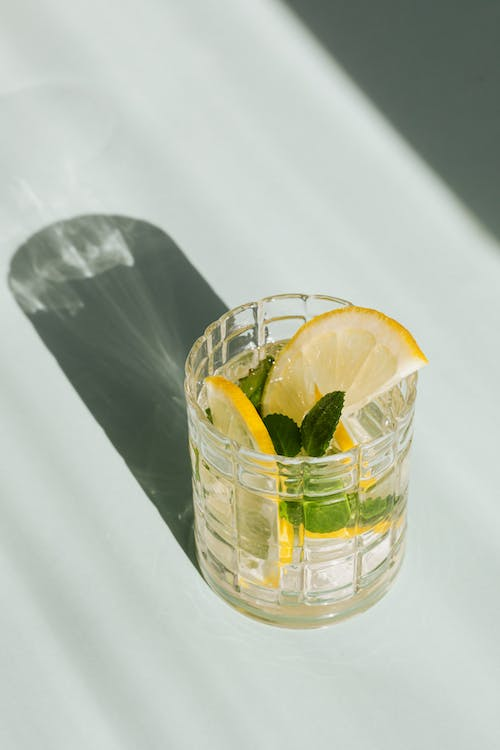alcohol: (181, 290, 419, 631)
